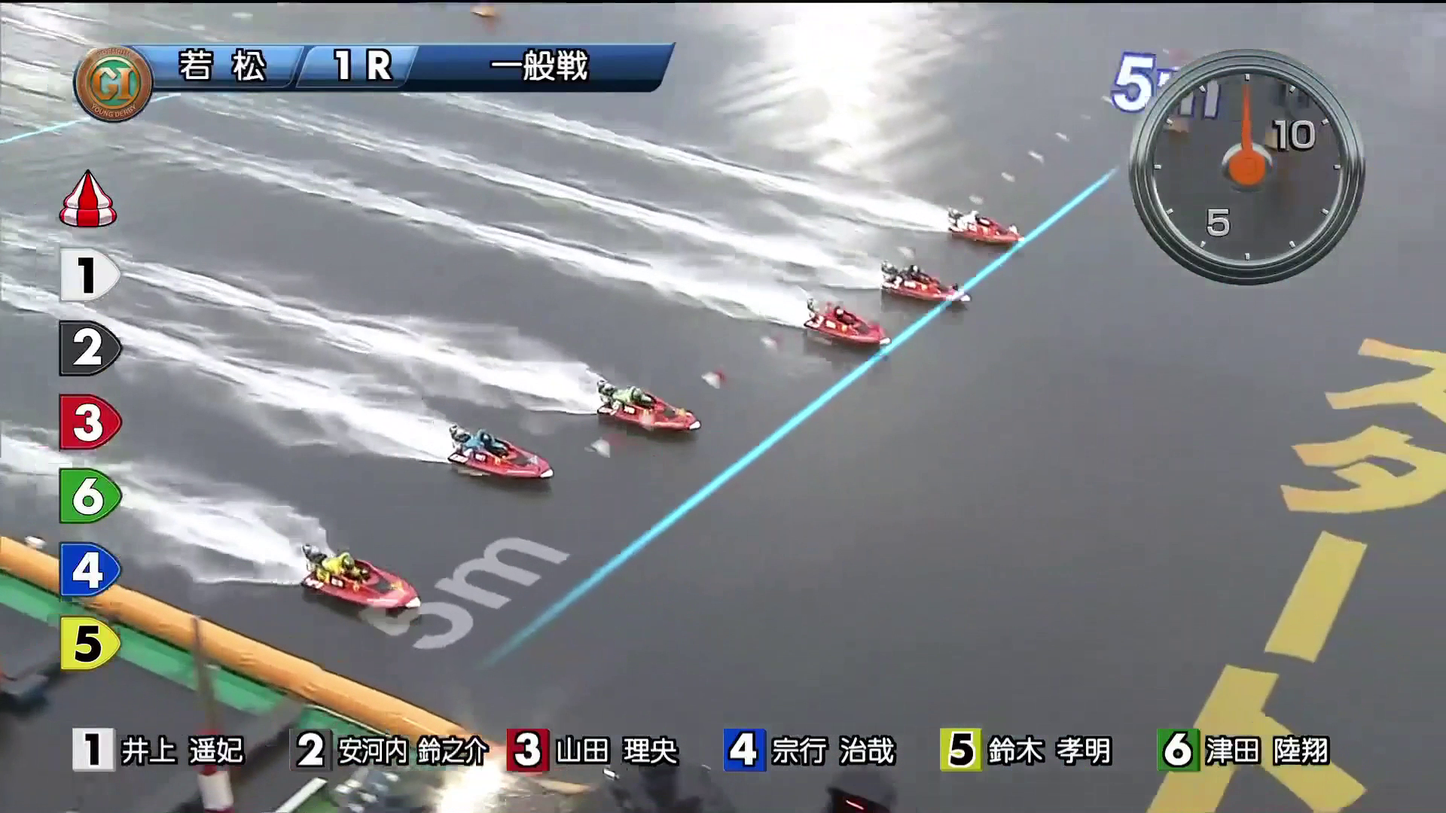１号艇: (900, 207, 974, 253)
２号艇: (885, 263, 947, 300)
３号艇: (811, 302, 866, 343)
４号艇: (626, 383, 690, 426)
５号艇: (493, 452, 562, 490)
６号艇: (396, 586, 461, 632)
